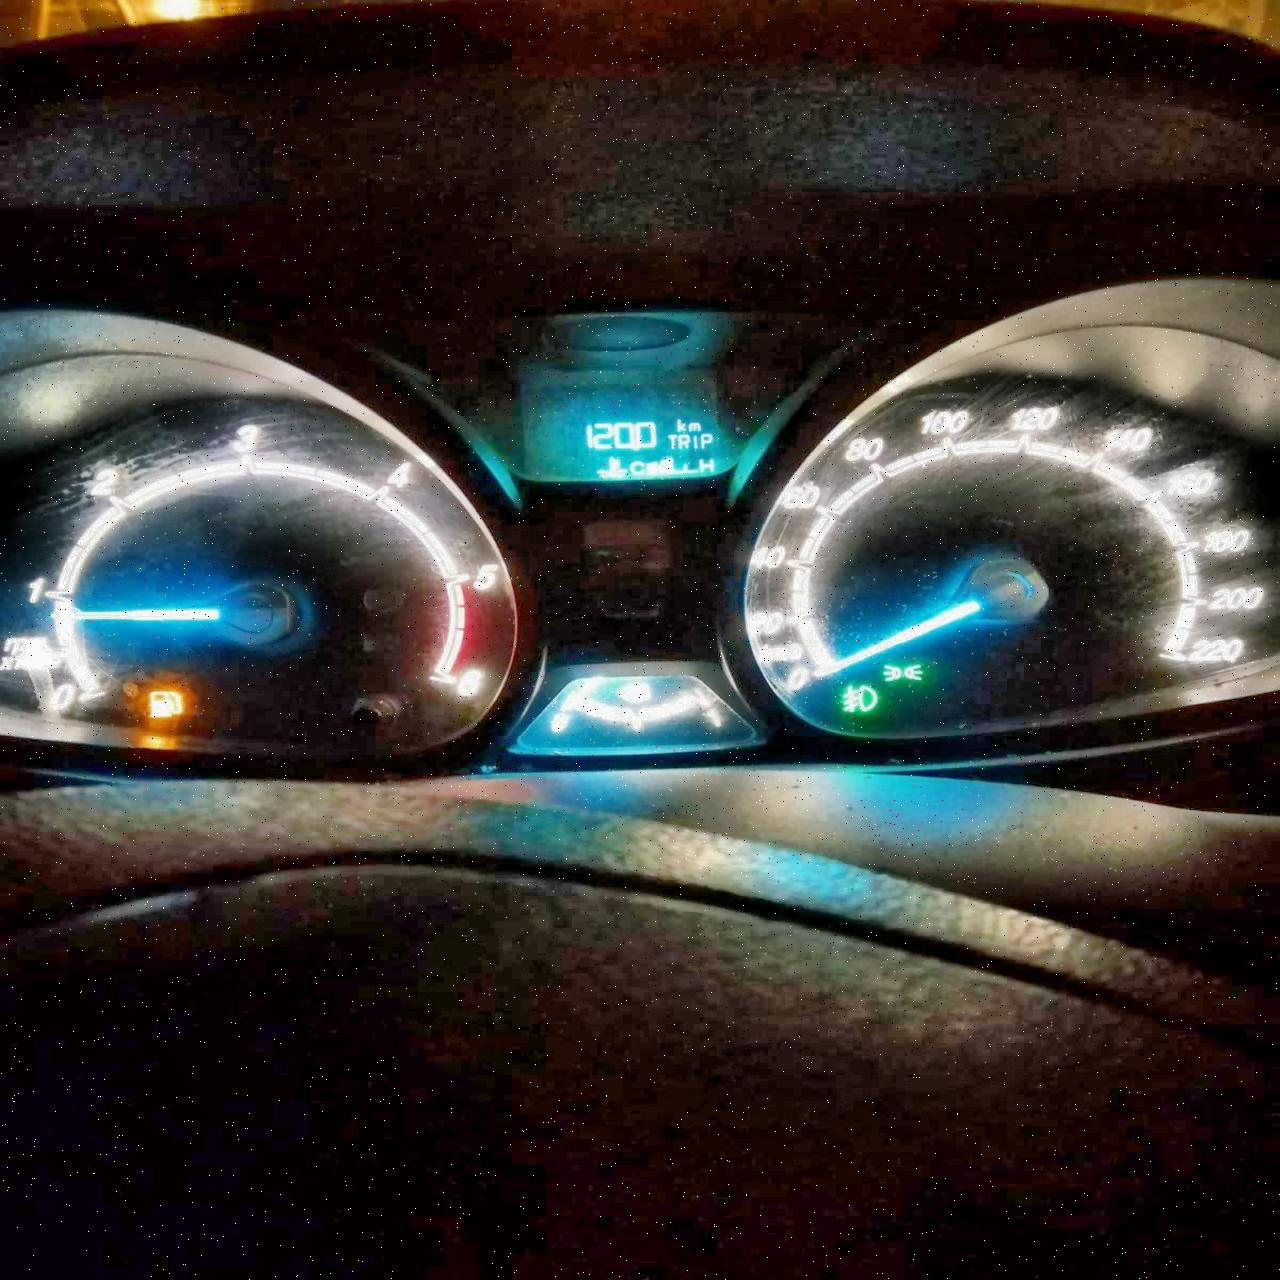-: (632, 444, 640, 452)
0: (635, 418, 659, 447), (612, 421, 635, 449)
1: (584, 422, 593, 451)
2: (593, 421, 612, 449)
X: (696, 456, 714, 474), (628, 459, 646, 475), (700, 431, 714, 450), (678, 433, 689, 449), (687, 420, 701, 431), (676, 416, 686, 433), (667, 433, 676, 449), (692, 433, 699, 450)
odometer: (547, 396, 742, 488)
